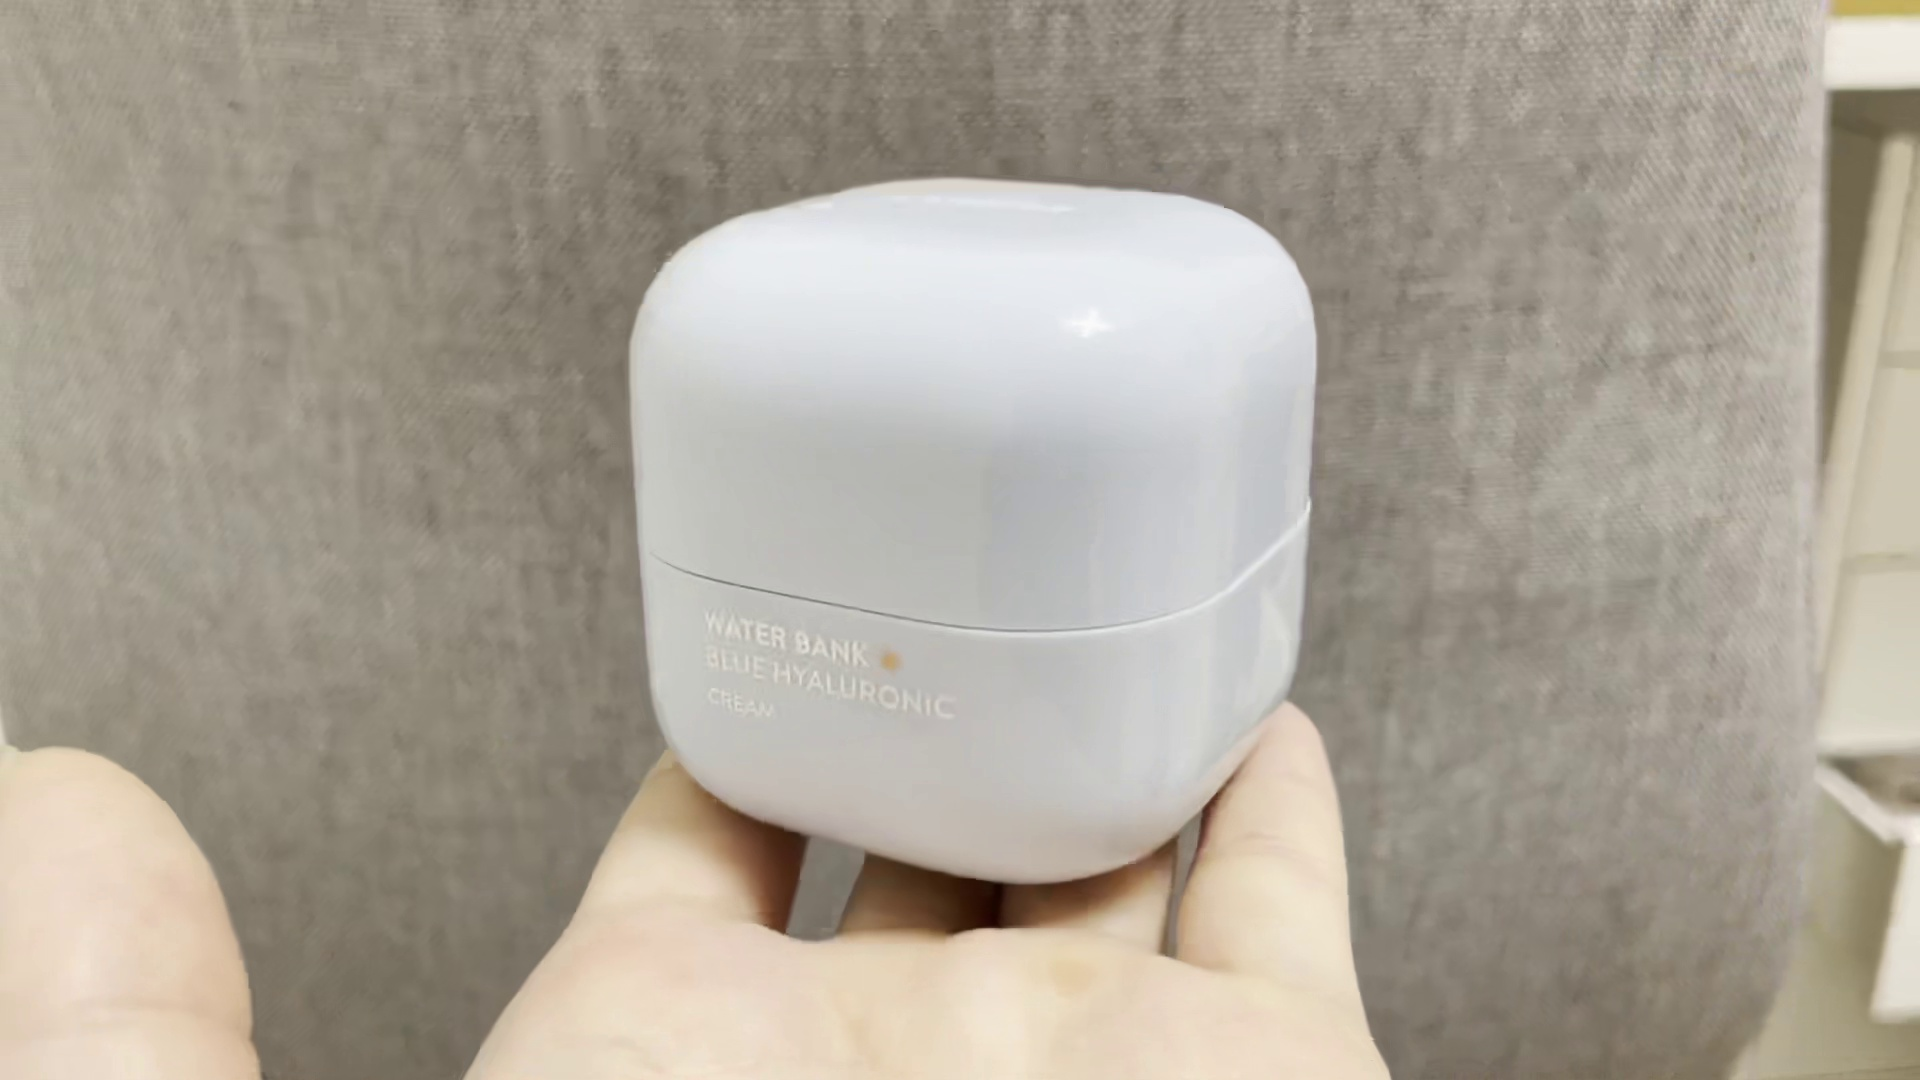cream: (630, 175, 1320, 880)
